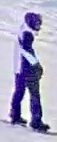snowboarder: (0, 12, 57, 135)
